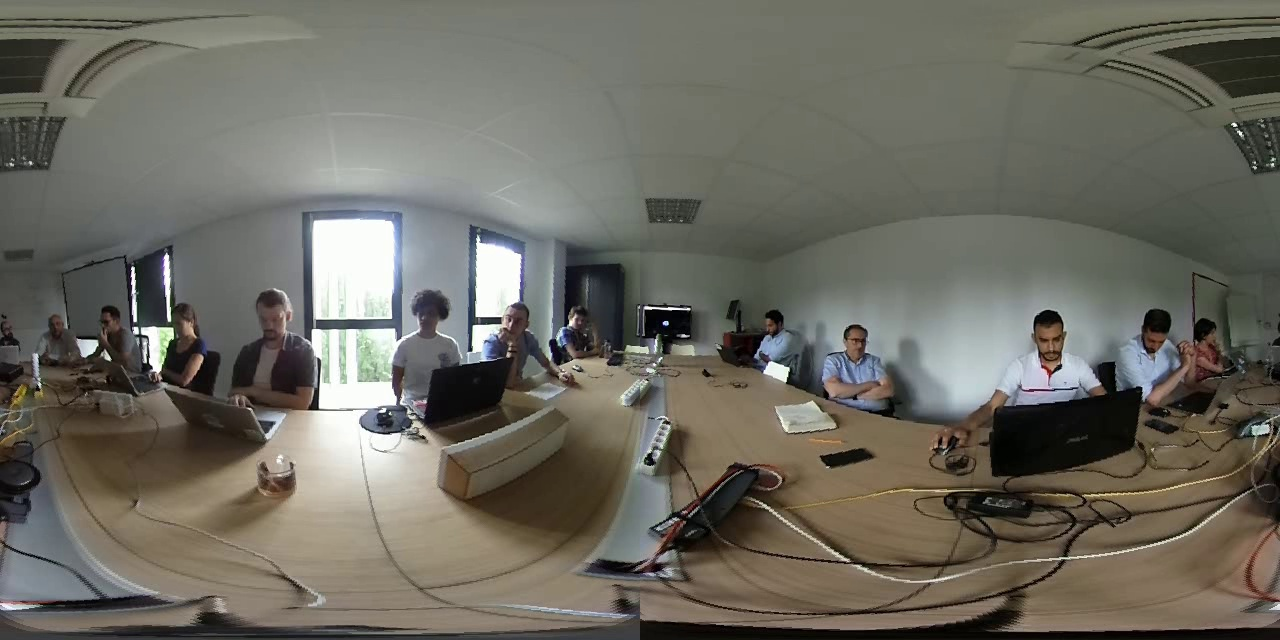person: (984, 300, 1106, 419), (222, 283, 319, 422), (816, 318, 904, 431), (1114, 291, 1190, 420), (377, 278, 465, 385), (479, 296, 552, 401), (149, 289, 215, 389), (86, 293, 148, 373), (1182, 305, 1242, 383), (551, 294, 610, 366), (753, 300, 805, 377), (30, 301, 82, 367), (1, 310, 29, 360)
